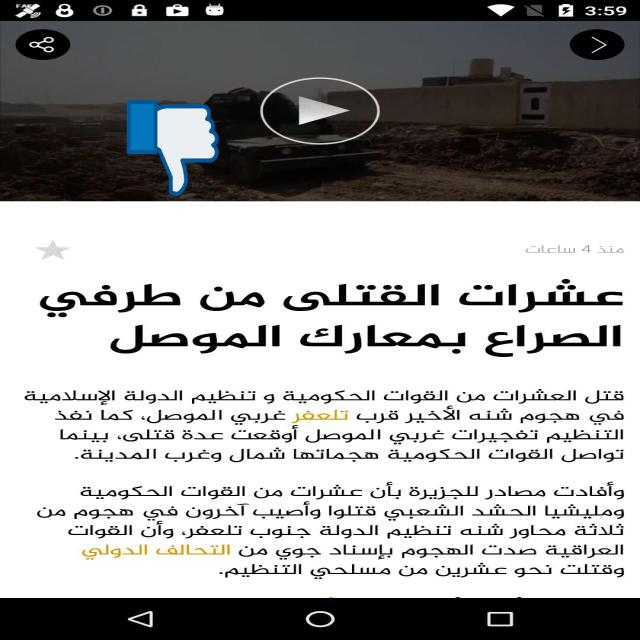obstruction: (126, 98, 218, 198)
